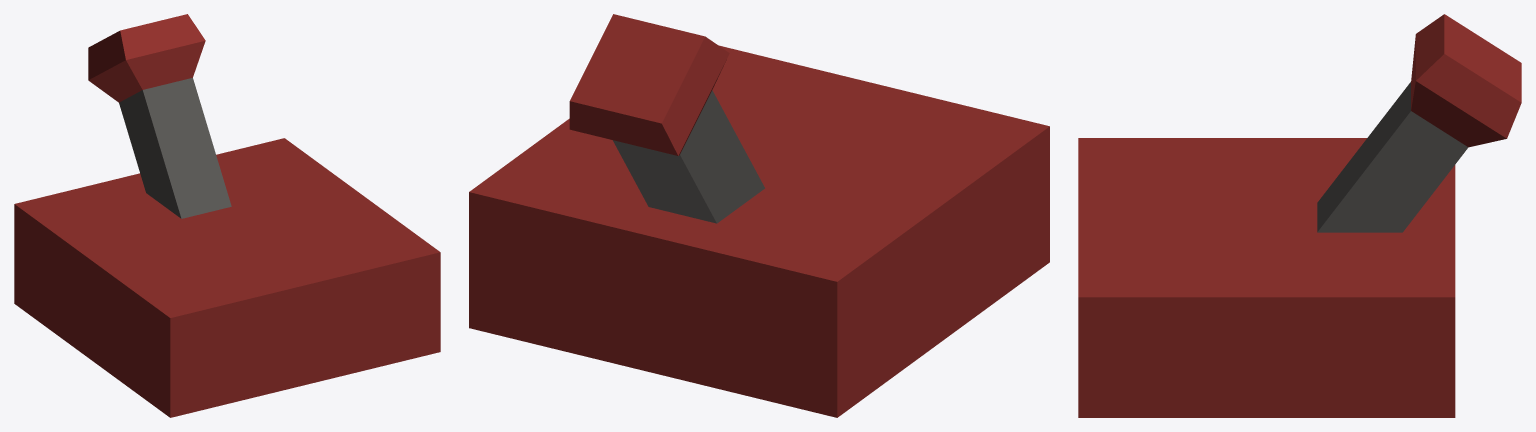
File: leverToggle.fbx
The picture shows the model from 3 angles, left to right: view 1: azimuth 30°, elevation 25°; view 2: azimuth 150°, elevation 25°; view 3: azimuth 270°, elevation 25°; orthographic projection. The views are drawn at different scales.
Visible parts, largest first — view 1: lever, leverHandle; view 2: lever, leverHandle; view 3: lever, leverHandle.
Boxes of the visible parts, left/top/right/bottom form: lever: left=14, top=138, right=440, bottom=417; leverHandle: left=88, top=14, right=231, bottom=218; lever: left=469, top=45, right=1049, bottom=417; leverHandle: left=569, top=14, right=764, bottom=223; lever: left=1078, top=138, right=1455, bottom=417; leverHandle: left=1317, top=14, right=1521, bottom=232.
Size of the model in its own units: 1 by 0.9442 by 1.18.
